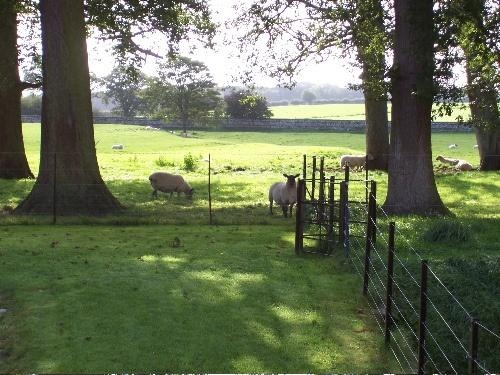sheep: (270, 174, 302, 220), (150, 172, 196, 202), (341, 154, 369, 173), (436, 155, 462, 168), (113, 144, 125, 151), (450, 144, 459, 149)
